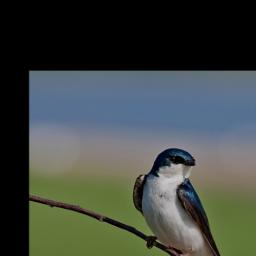Swallow: (132, 146, 241, 256)
